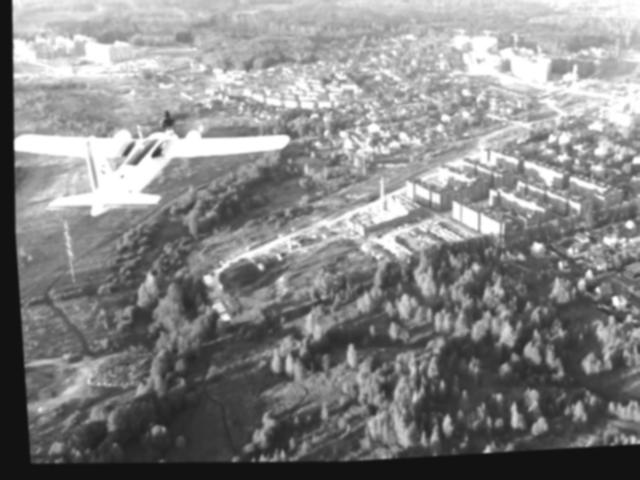hedef: (6, 89, 303, 240)
